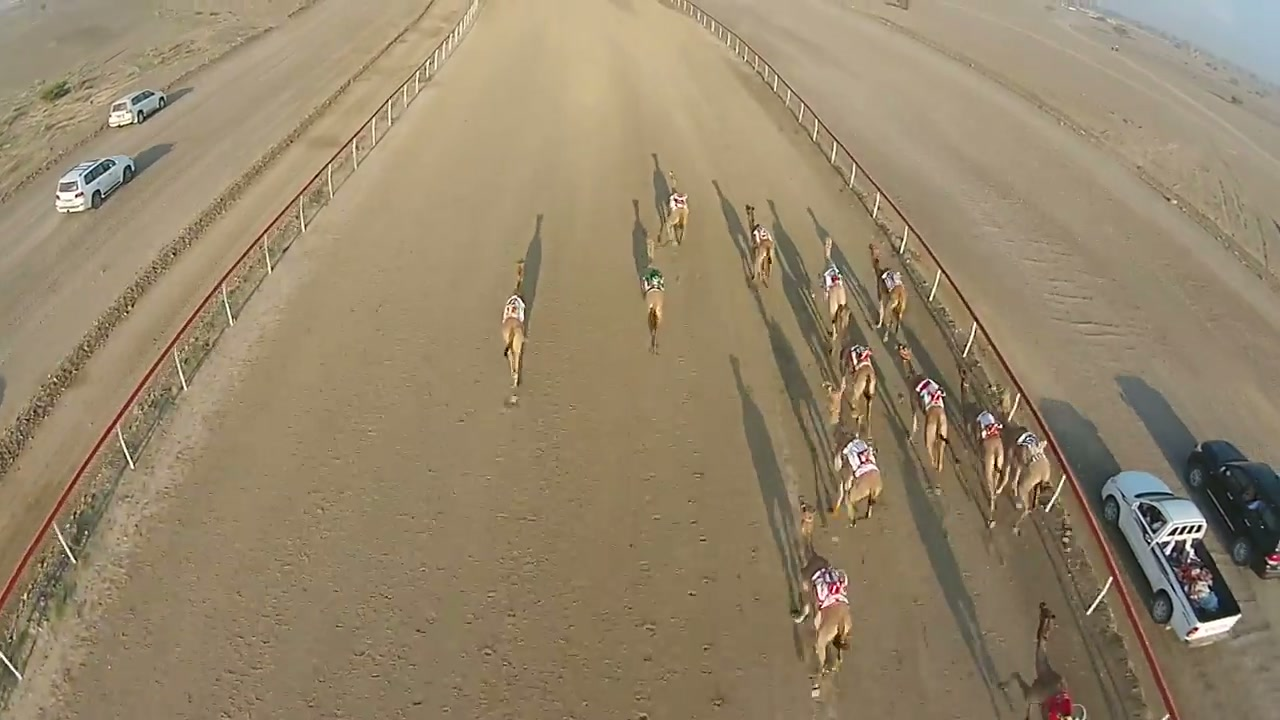animal_footprint: (224, 338, 786, 719)
